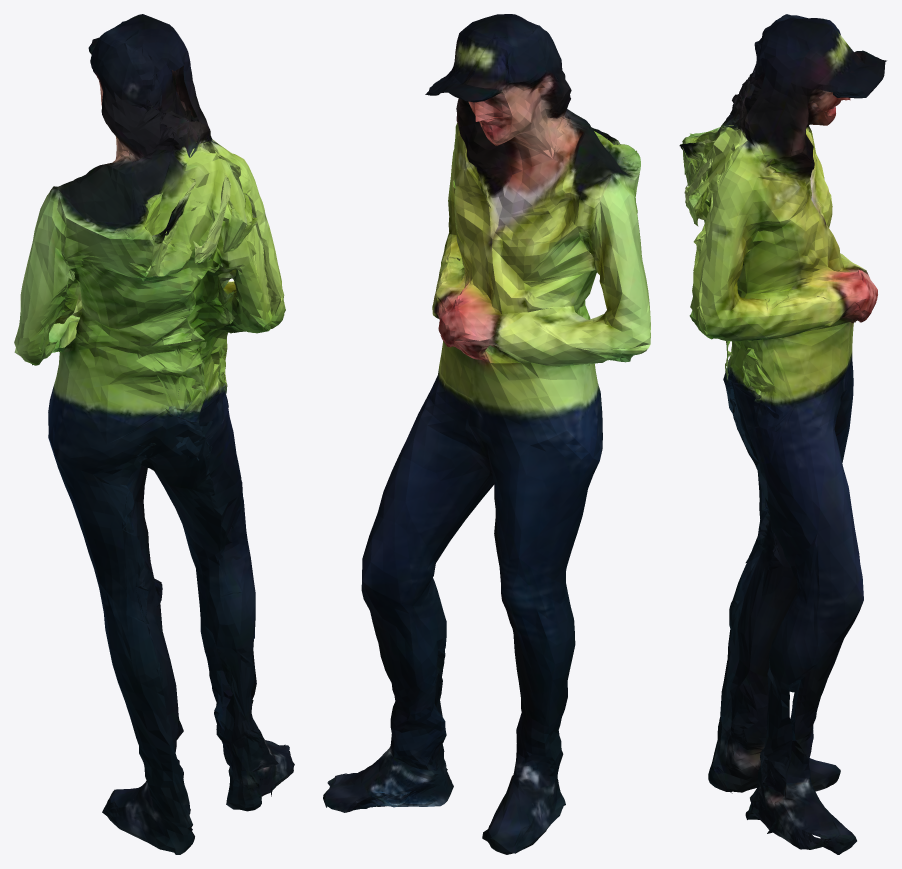
The picture shows the model from 3 angles, left to right: view 1: azimuth 30°, elevation 25°; view 2: azimuth 150°, elevation 25°; view 3: azimuth 270°, elevation 25°; orthographic projection. The views are drawn at different scales.
Parts seen in each view (by area): view 1: dec_0019; view 2: dec_0019; view 3: dec_0019.
Part boxes in pixels (box(x1,y1,x2,y2)): dec_0019: box(14, 14, 294, 854); dec_0019: box(323, 14, 650, 854); dec_0019: box(679, 14, 886, 854).
Size of the model in its own units: 0.6779 by 1.76 by 0.4305.
1 material, 1 textured.
